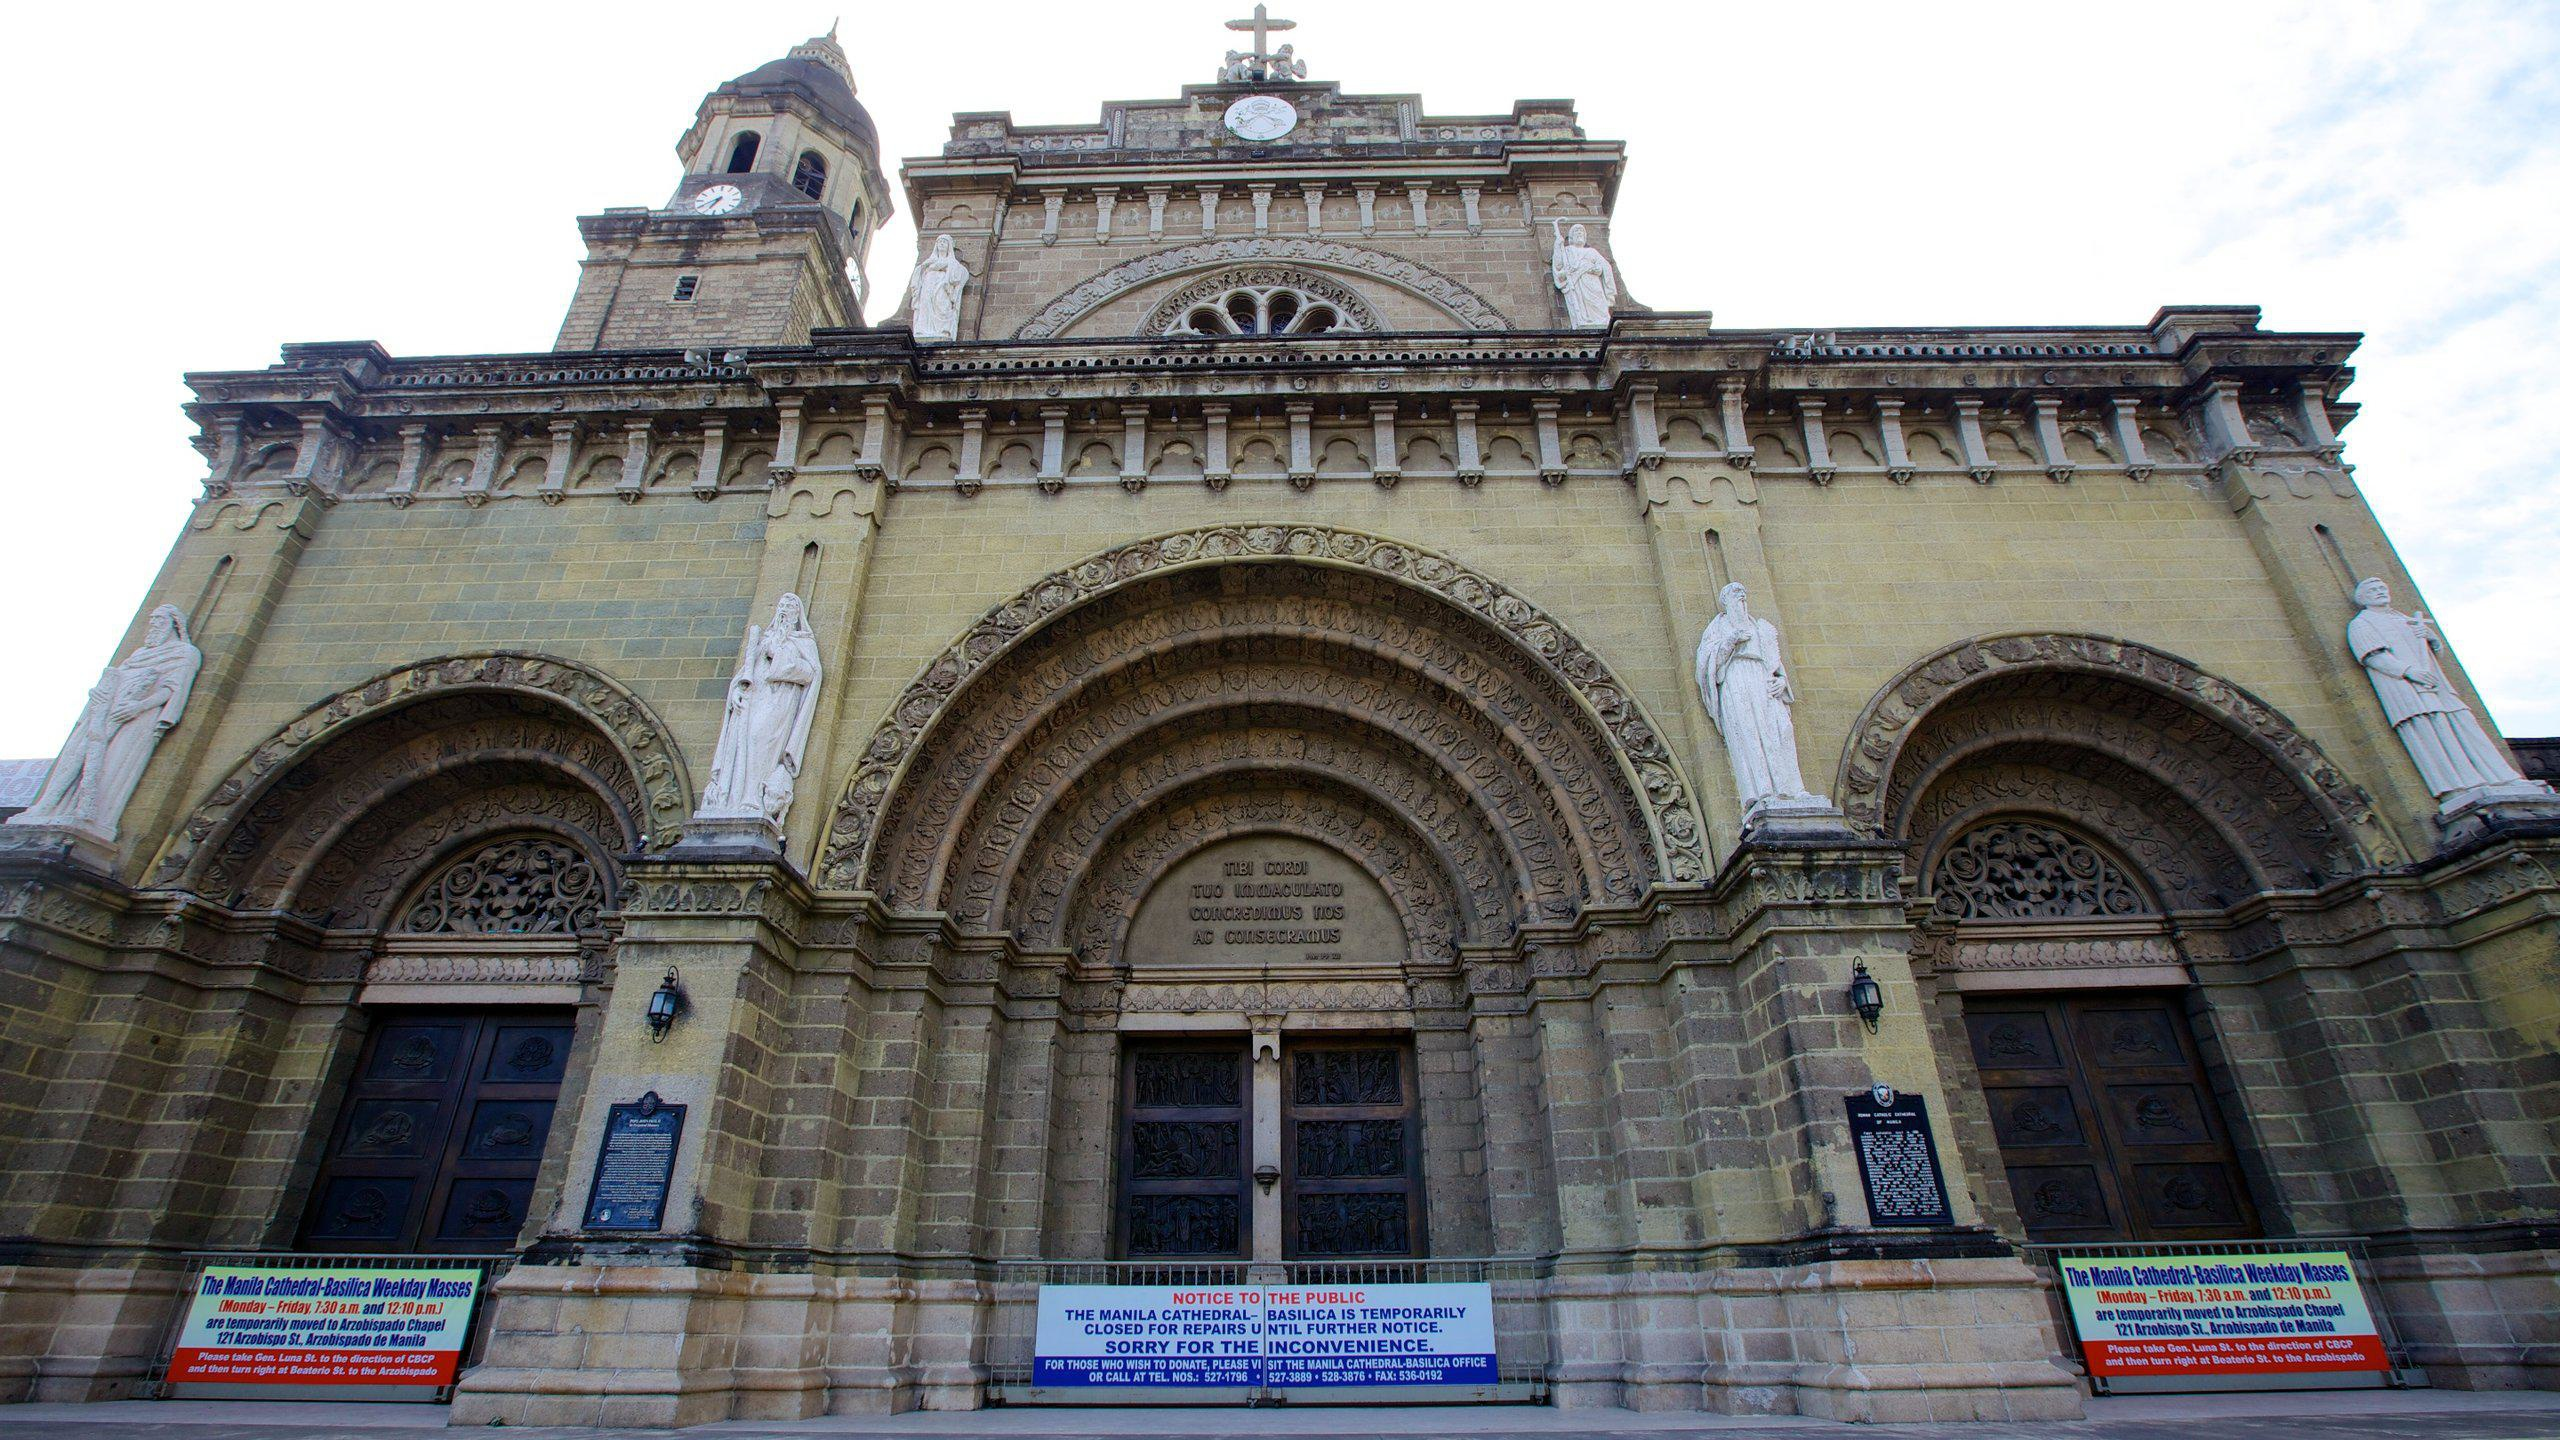manila_cathedral_church_intramuros_manila: (21, 9, 2560, 1429)
